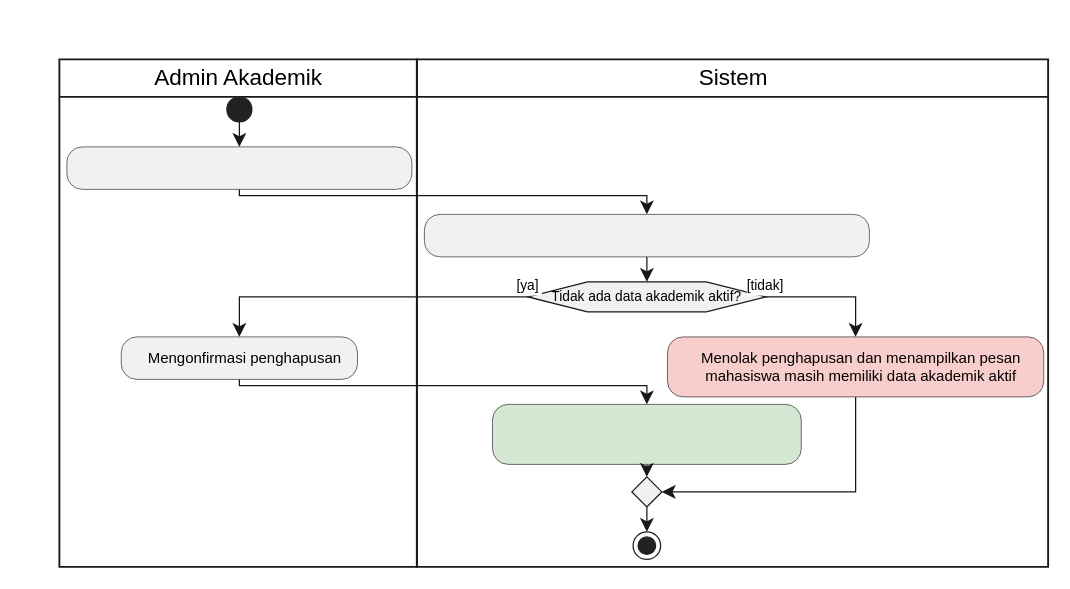
This 1070x589 diagram has some shape labels left out. Each missing label, with the centre of its shape:
"Memeriksa mahasiswa tidak memiliki data akademik aktif" belongs at point 646,235.
"Memilih data mahasiswa yang akan dihapus" belongs at point 239,167.
"Menghapus data mahasiswa dan menampilkan konfirmasi penghapusan" belongs at point 646,434.
